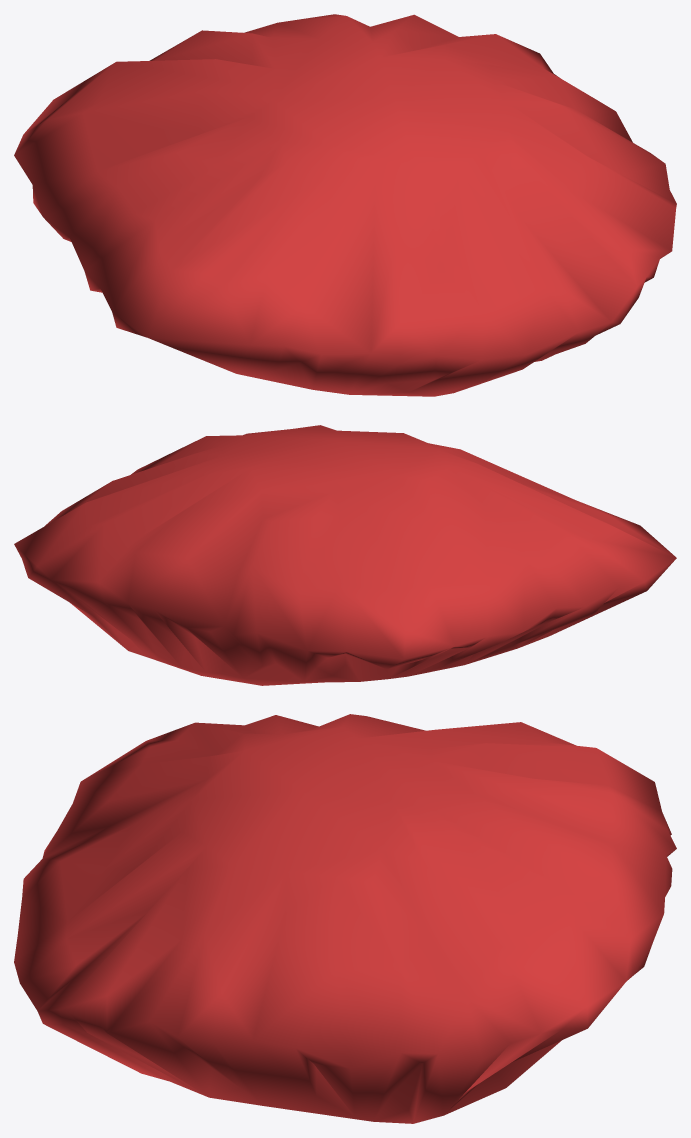
The model's file is SM_mushroom_red_05.fbx.
3 views of the same model, one above another, from view 1: azimuth 30°, elevation 25°; view 2: azimuth 150°, elevation 25°; view 3: azimuth 270°, elevation 25° (orthographic). The views are drawn at different scales.
Parts seen in each view (by area): view 1: mushroom_red_05; view 2: mushroom_red_05; view 3: mushroom_red_05.
Boxes of the visible parts, bbox=[...] form: mushroom_red_05: bbox=[14, 14, 676, 396]; mushroom_red_05: bbox=[14, 425, 676, 685]; mushroom_red_05: bbox=[14, 714, 676, 1123].
Size of the model in its own units: 376 by 151 by 341.
